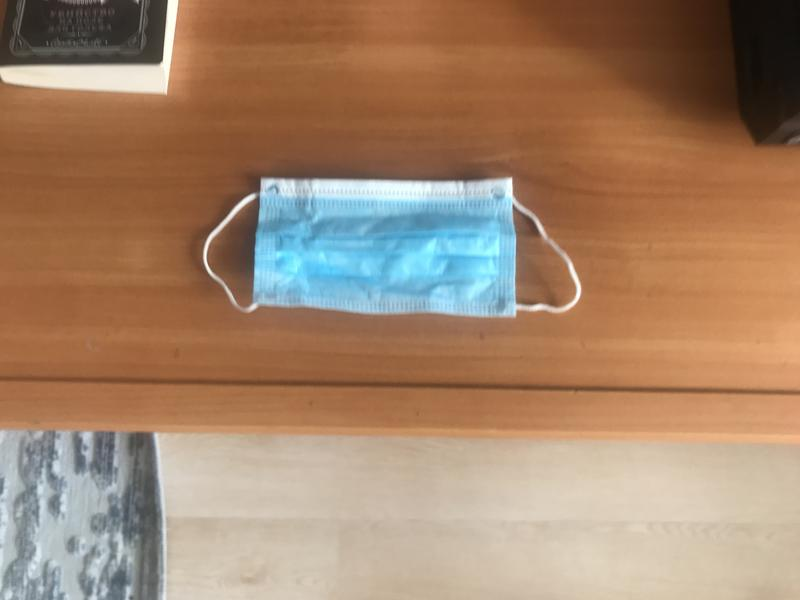medical_mask: (204, 175, 581, 320)
